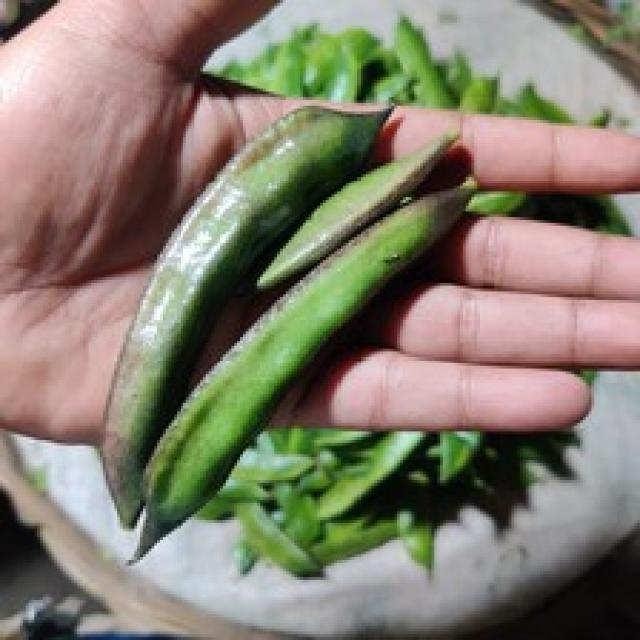Bean: (97, 100, 394, 529)
